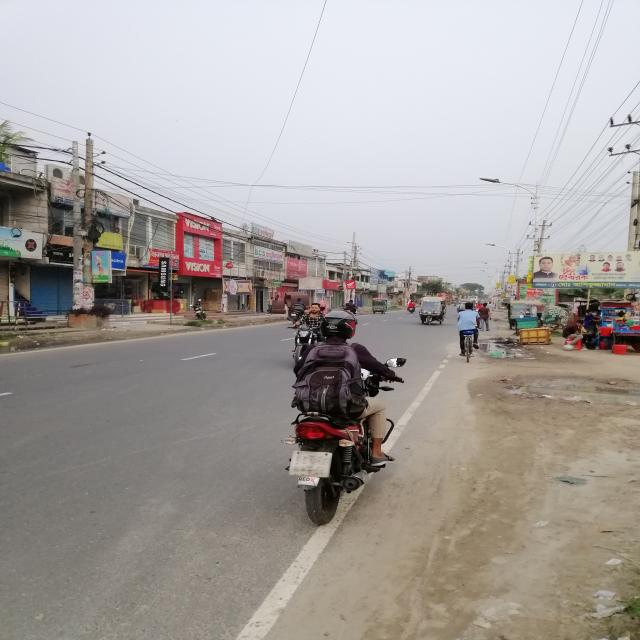Motorbike: (283, 349, 409, 529)
